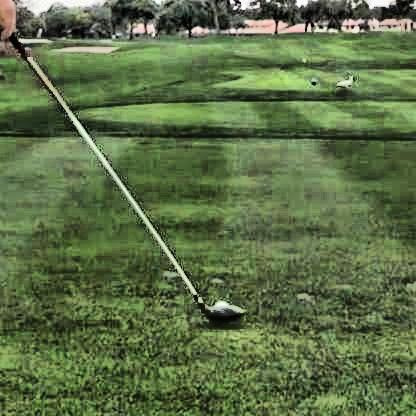golfball: (207, 297, 235, 320)
